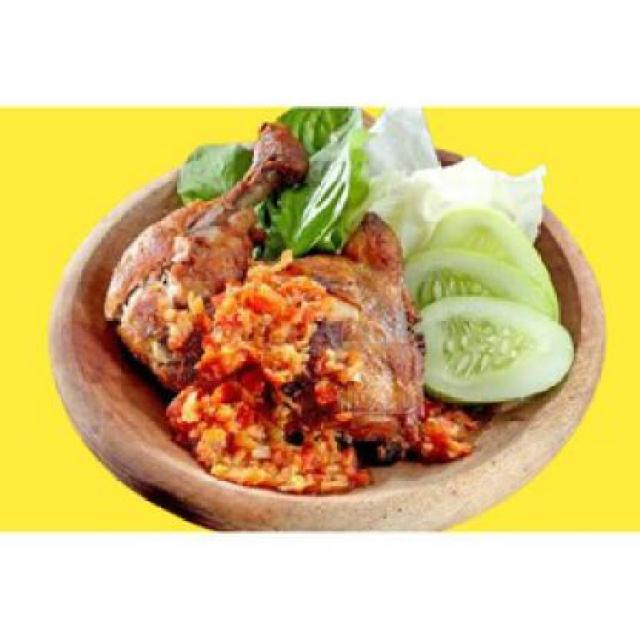Wet Waste: (106, 126, 426, 451)
